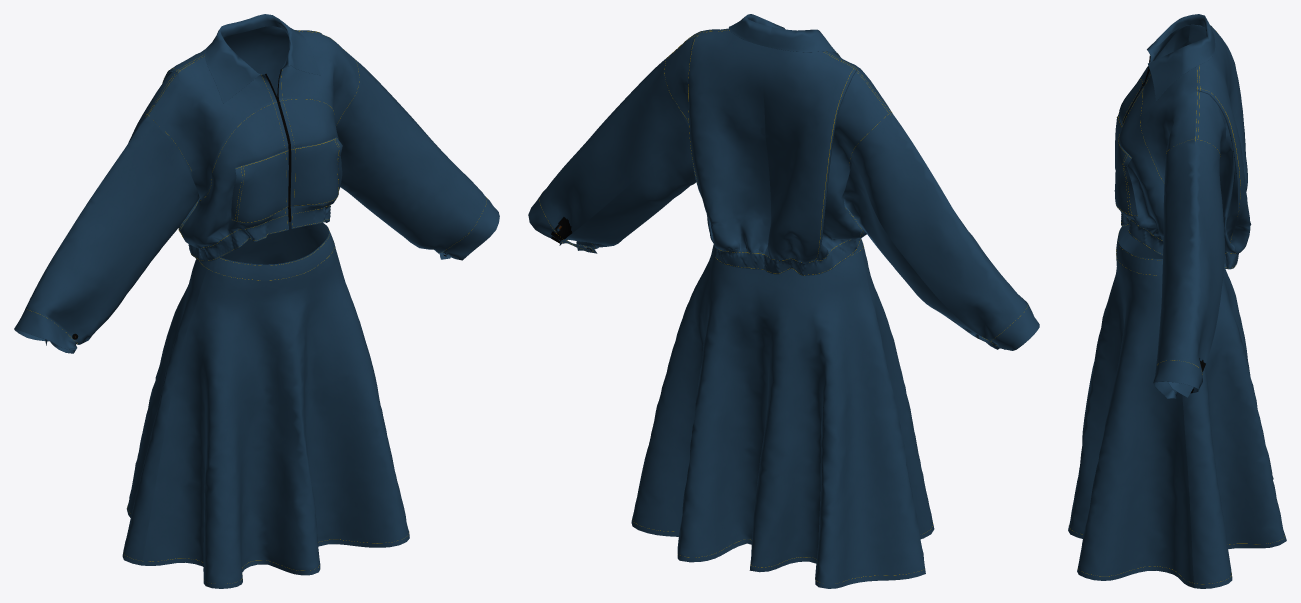
The model's file is asset.glb.
The picture shows the model from 3 angles, left to right: view 1: azimuth 30°, elevation 25°; view 2: azimuth 150°, elevation 25°; view 3: azimuth 270°, elevation 25°; orthographic projection. The views are drawn at different scales.
Parts seen in each view (by area): view 1: Cloth; view 2: Cloth; view 3: Cloth.
Part boxes in pixels (x1,y1,x2,y2): Cloth: [14, 14, 499, 588]; Cloth: [528, 14, 1039, 588]; Cloth: [1068, 14, 1286, 588].
Size of the model in its own units: 1.12 by 1.14 by 0.4439.
Materials: 13 (6 with a texture image).
